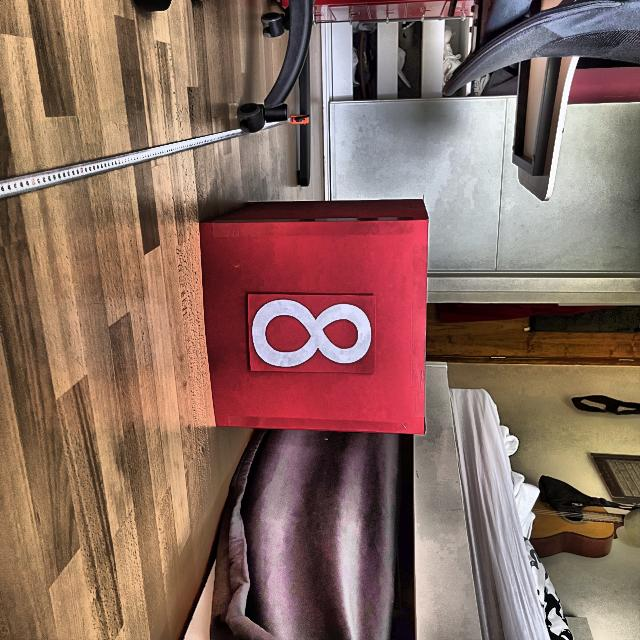eight: (251, 296, 371, 370)
red box: (200, 202, 428, 436)
